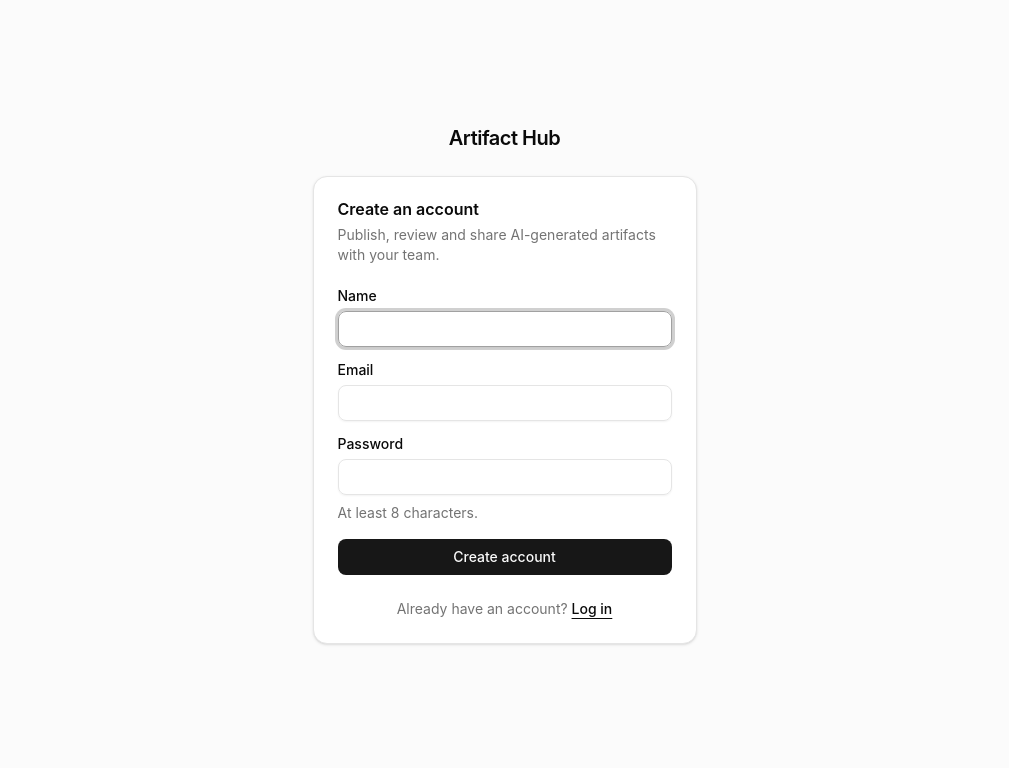
auth flow › signup › creates the account and signs in
Type "Grace Hopper" into the field labelled "Name".
click(504, 329); type("Grace Hopper")  # box [338,311,672,347]
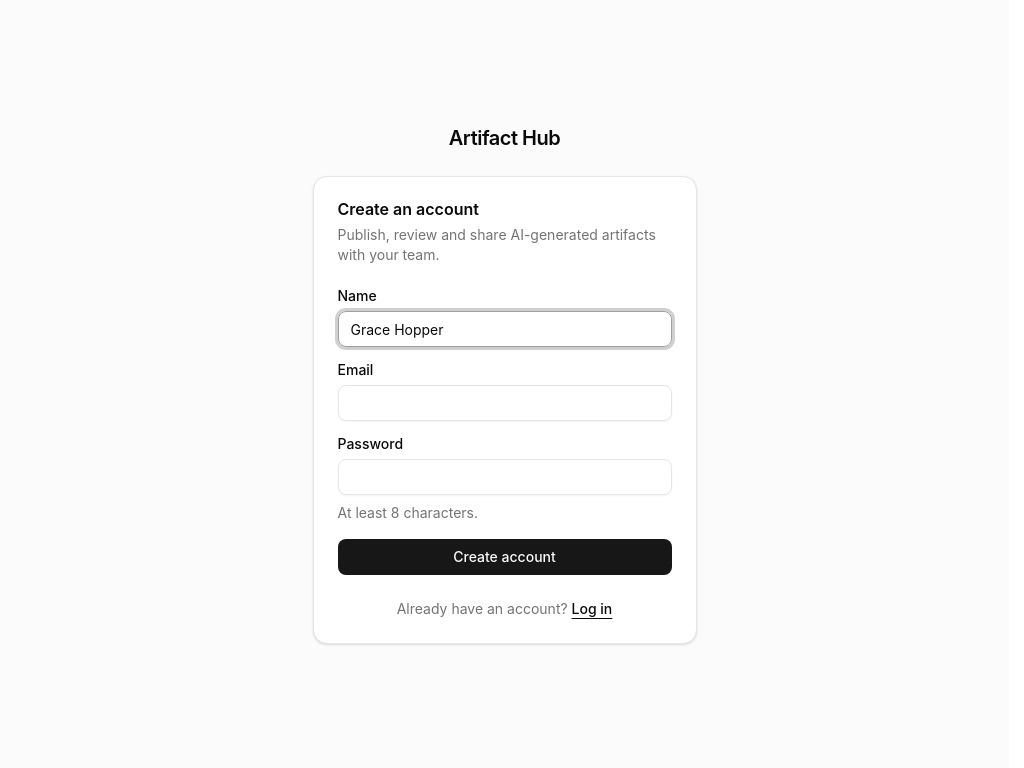
Type " Grace@Example.com " into the field labelled "Email".
click(504, 403); type(" Grace@Example.com ")  # box [338,385,672,421]
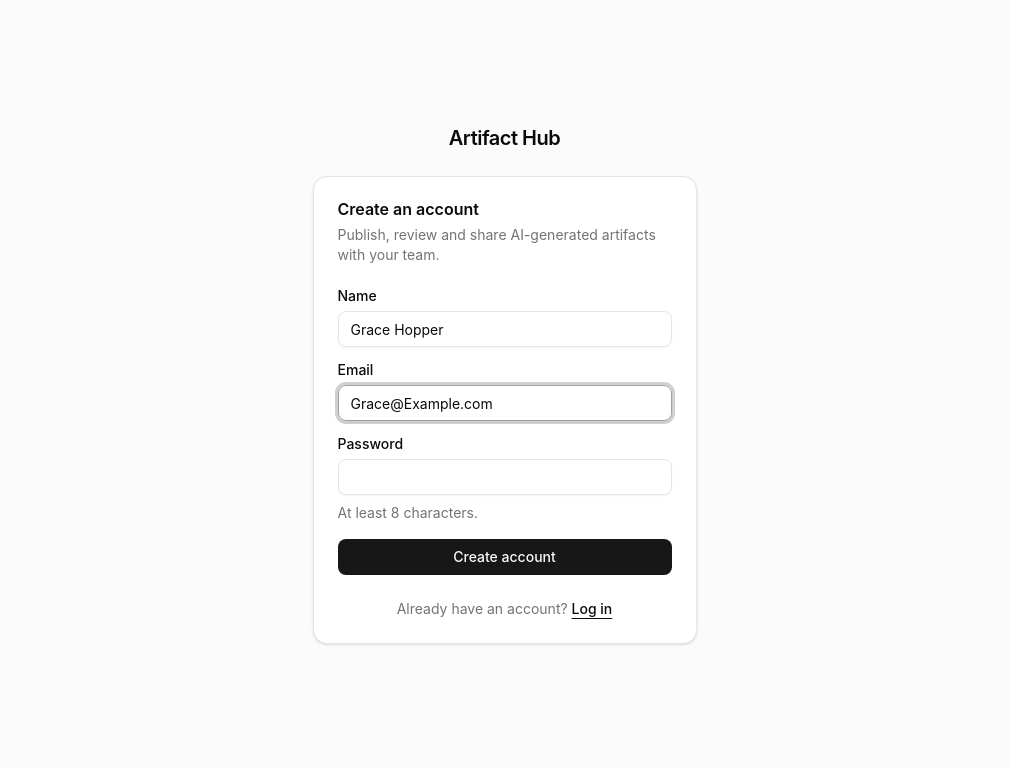
Type "correct horse" into the password field labelled "Password".
click(504, 477); type("correct horse")  # box [338,459,672,495]
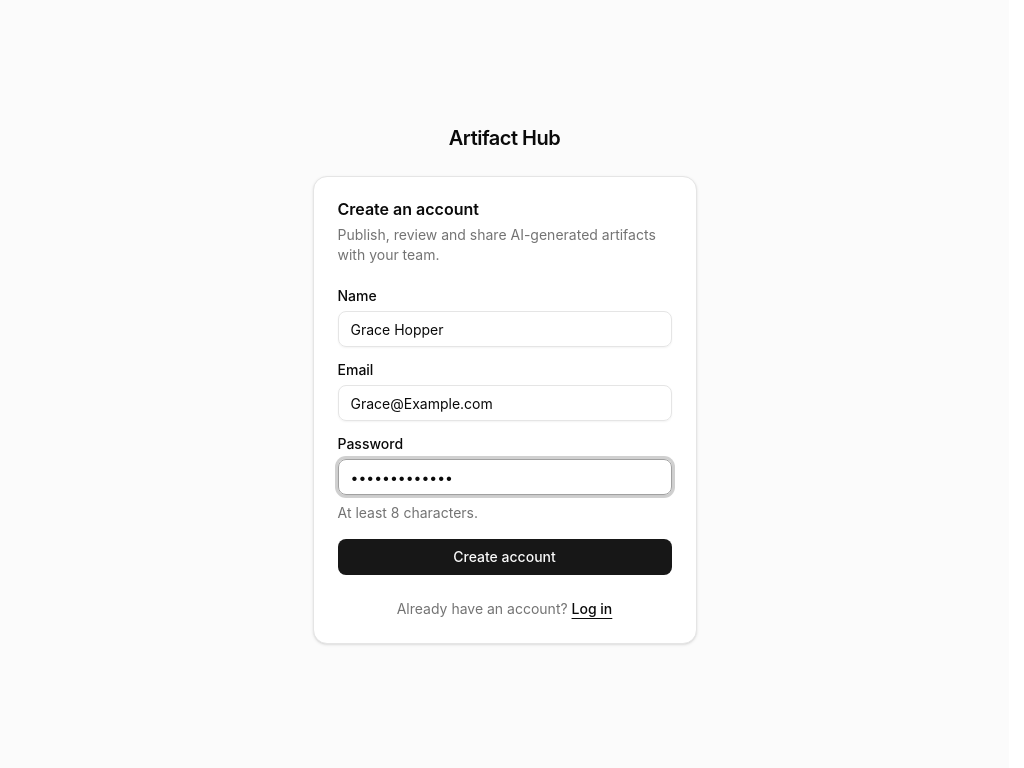
Click the button "Create account".
click(504, 557)  # box [338,539,672,575]
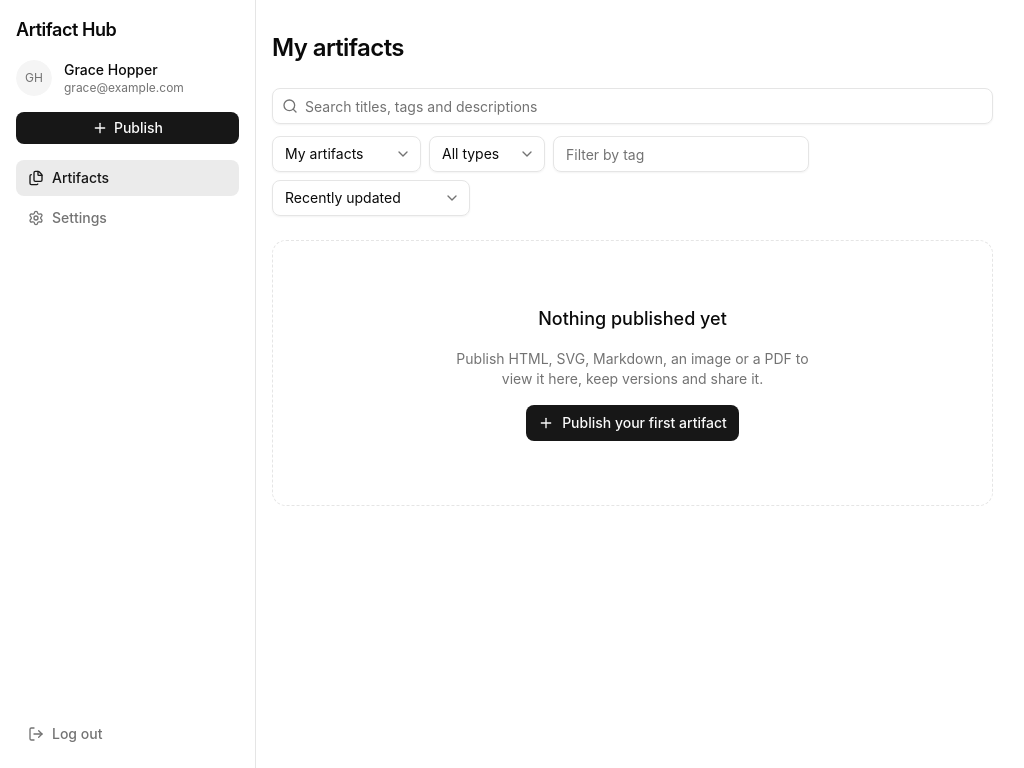
Expected: the heading "My artifacts" is shown, [272,32,404,64]
Expected: the element named "Signed in user" shows "GH", [25,70,43,85]
Expected: the text "grace@example.com" is shown, [64,80,184,96]
